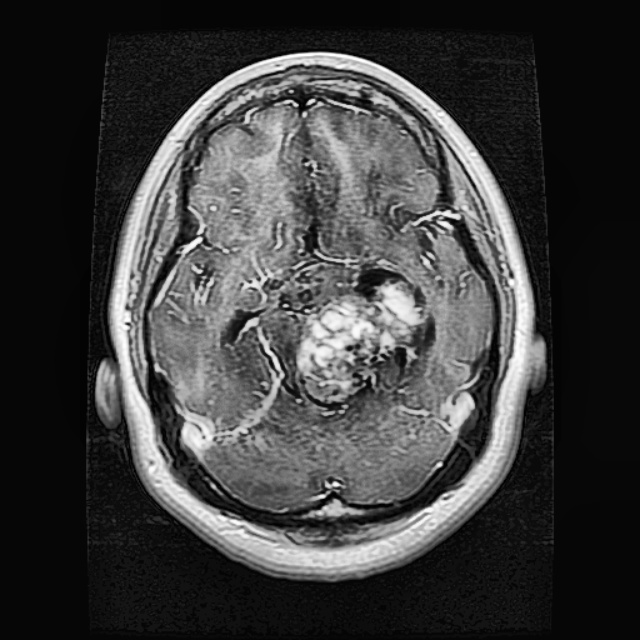Glioma: (293, 259, 435, 399)
